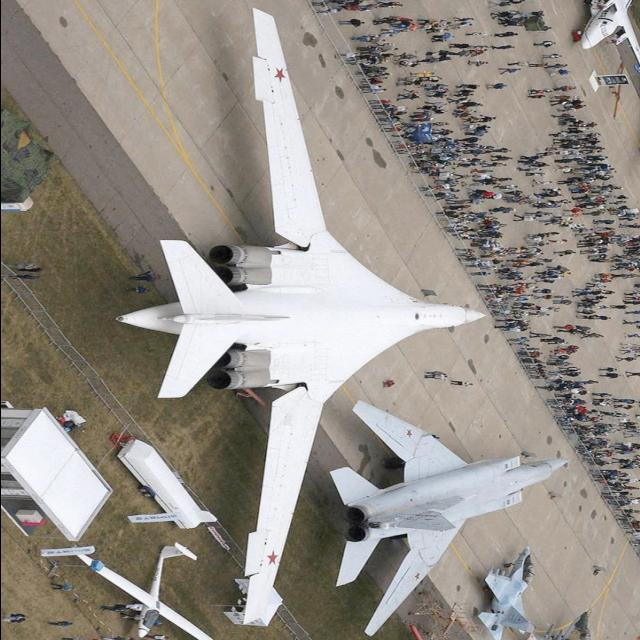Tu160: (65, 1, 538, 630), (331, 397, 628, 633), (472, 544, 580, 640)
